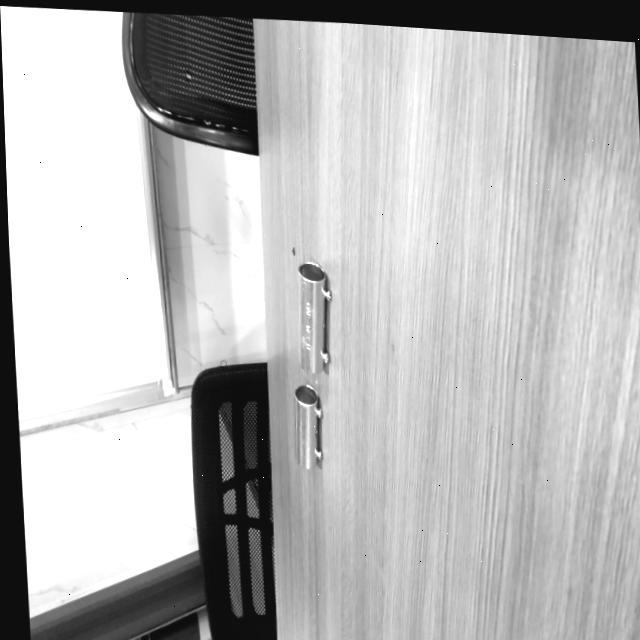Co_Lon: (297, 262, 330, 373)
Co_Nho: (293, 384, 321, 469)
